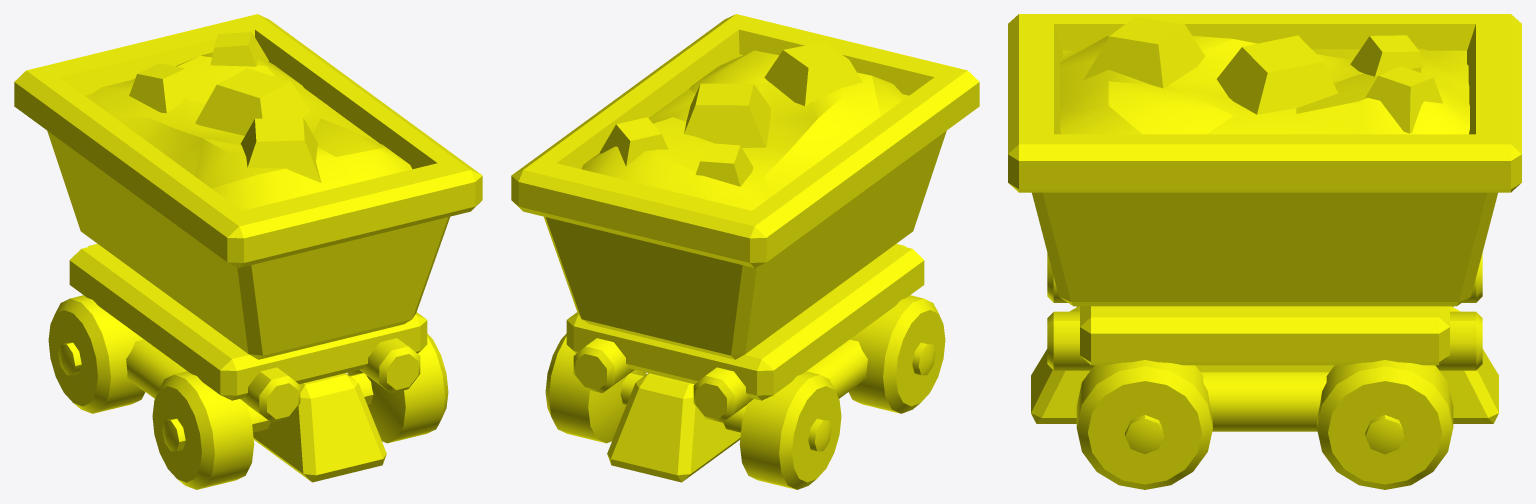
File: kaykit-train-tender-coal.glb
3 renders of one model, left to right at view 1: azimuth 30°, elevation 25°; view 2: azimuth 150°, elevation 25°; view 3: azimuth 270°, elevation 25°, orthographic. The views are drawn at different scales.
Visible parts, largest first — view 1: train_tender_coal; view 2: train_tender_coal; view 3: train_tender_coal.
Boxes of the visible parts, box(x1,y1,x2,y2) form: train_tender_coal: box(14, 14, 482, 489); train_tender_coal: box(511, 14, 979, 489); train_tender_coal: box(1008, 14, 1521, 489).
Bounding box in the file's own units: 0.4459 × 0.5315 × 0.6421.
